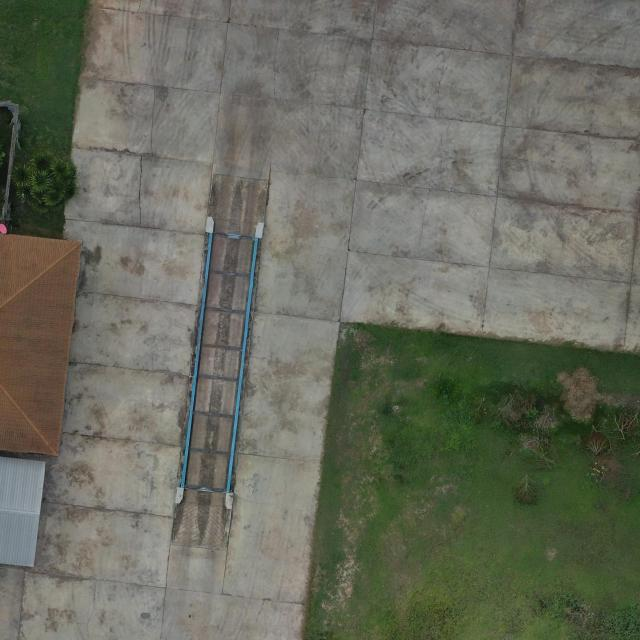tree: (12, 150, 75, 214)
